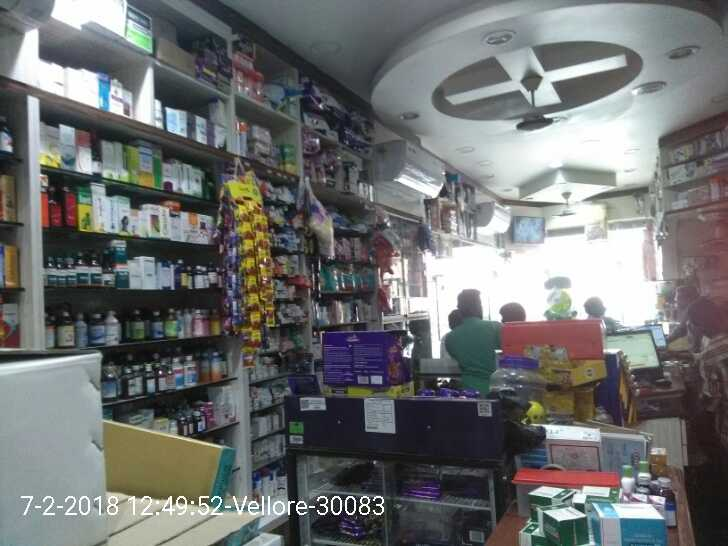reject: (372, 213, 419, 268)
